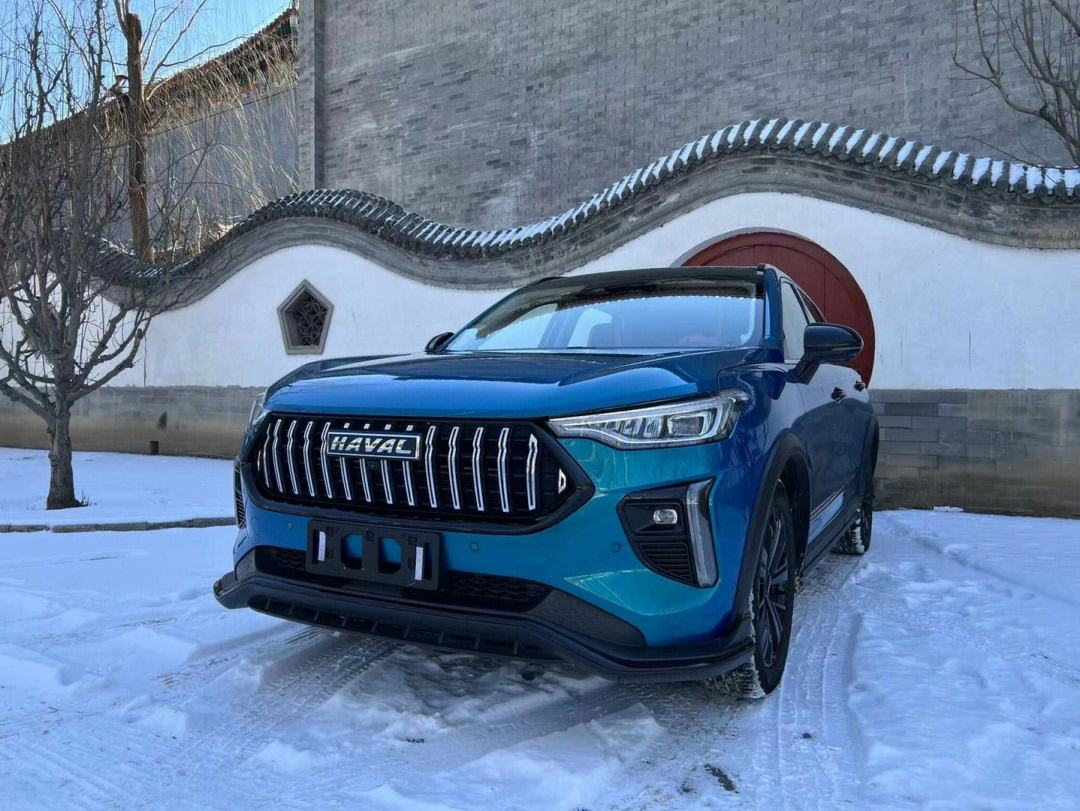other: (212, 271, 901, 717)
